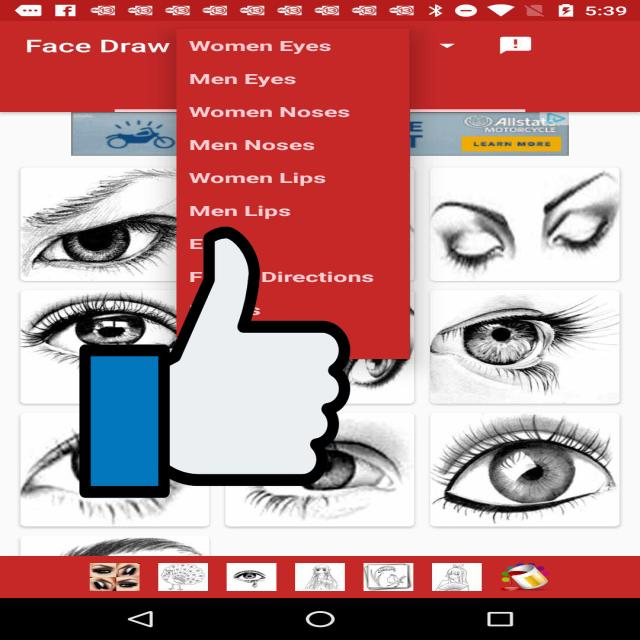privacy zuckering: (80, 221, 350, 504)
